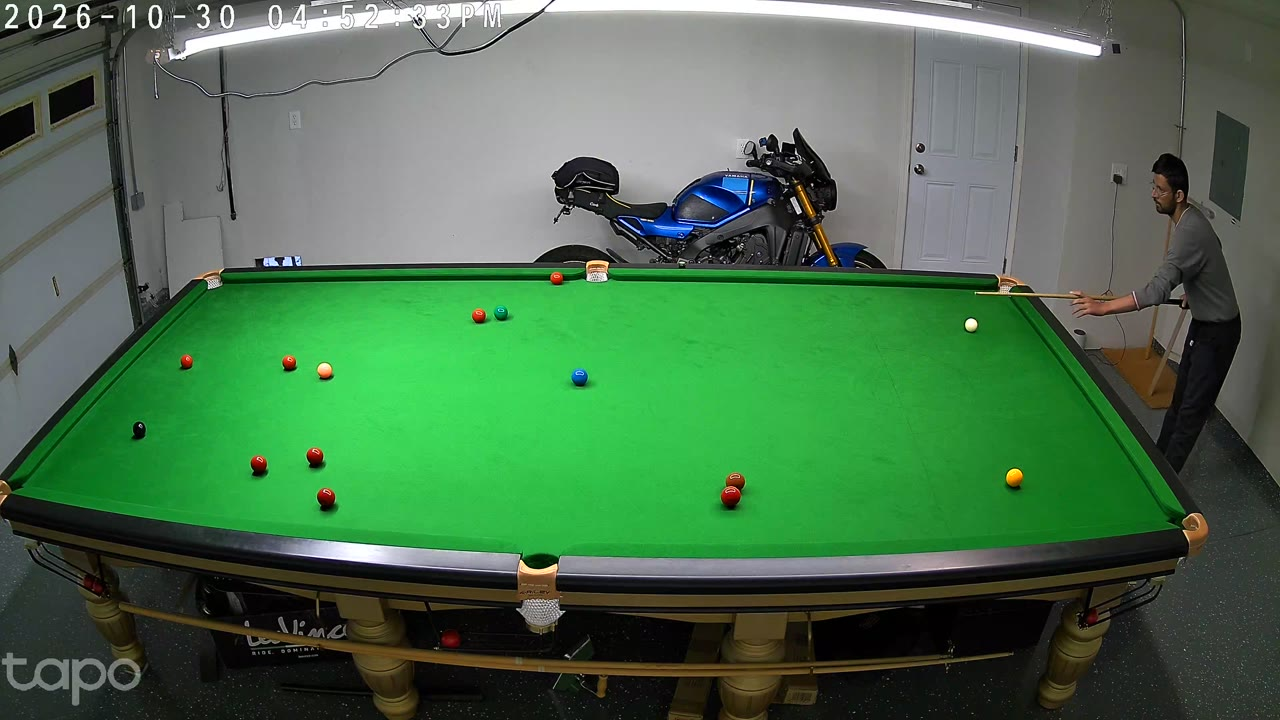black: (133, 420, 146, 441)
blue: (572, 367, 588, 389)
green: (495, 304, 507, 322)
pink: (318, 361, 332, 381)
red: (725, 471, 745, 500), (722, 484, 741, 511), (317, 486, 335, 512), (250, 453, 268, 477), (307, 446, 323, 469), (282, 354, 296, 373), (472, 307, 485, 326), (181, 353, 193, 371), (551, 271, 562, 287)
white: (965, 316, 977, 335)
yellow: (1006, 467, 1022, 489)
